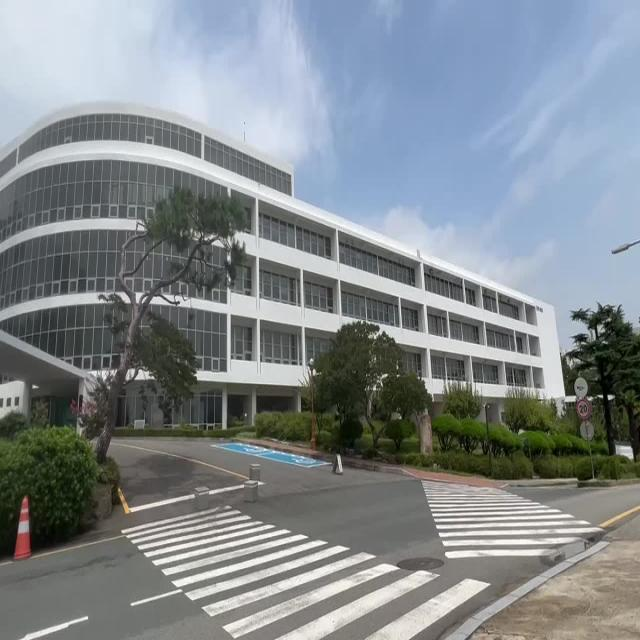building: (2, 108, 561, 369)
